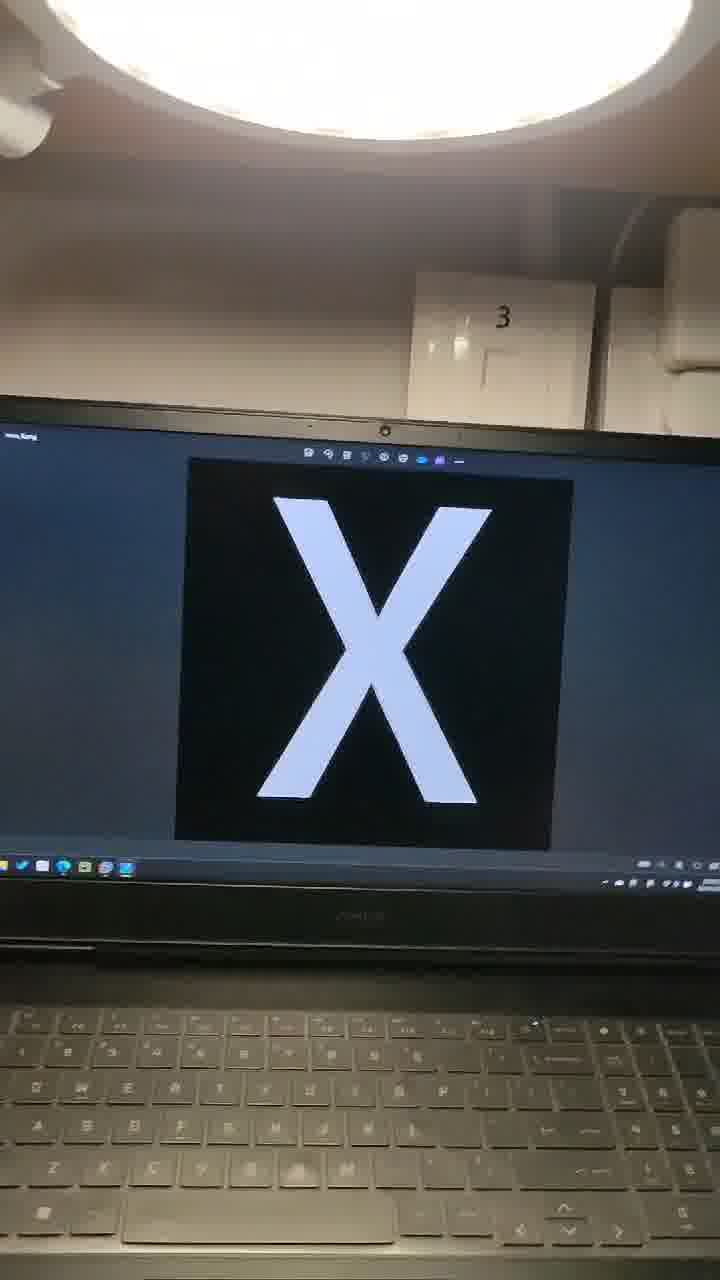X: (212, 396, 552, 828)
